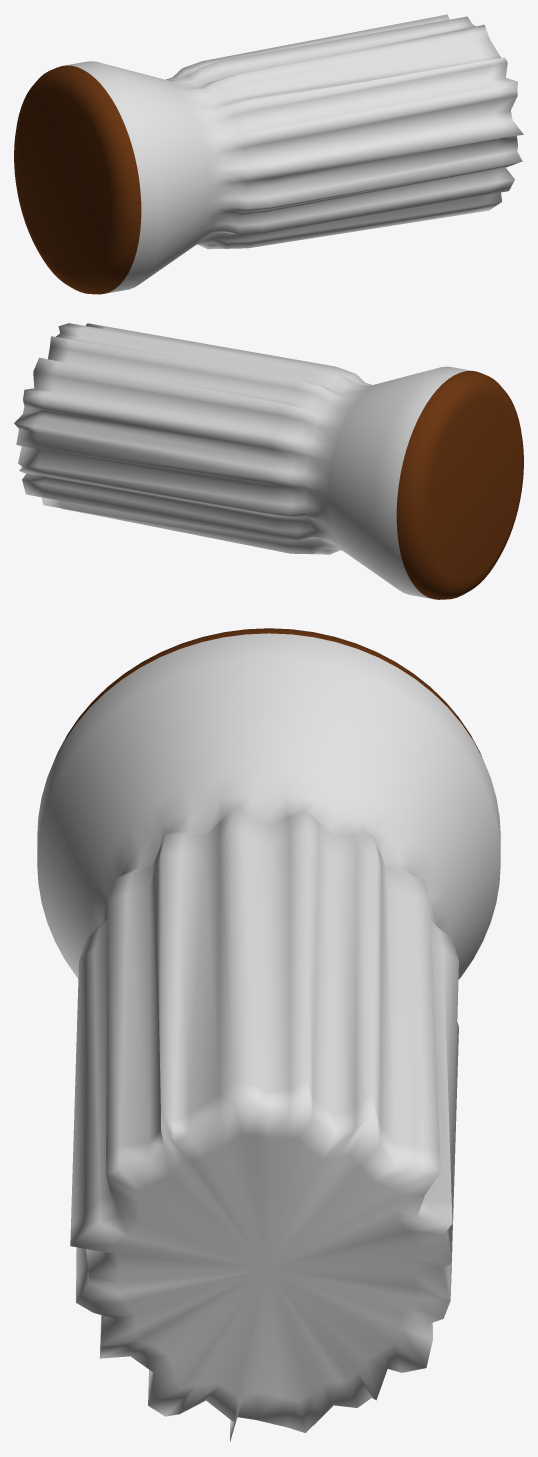
File: column_broken_1.fbx
3 views of the same model, one above another, from view 1: azimuth 30°, elevation 25°; view 2: azimuth 150°, elevation 25°; view 3: azimuth 270°, elevation 25° (orthographic). The views are drawn at different scales.
Visible parts, largest first — view 1: column_broken_2; view 2: column_broken_2; view 3: column_broken_2.
Part boxes in pixels (box(x1,y1,x2,y2)): column_broken_2: box(14, 14, 523, 294); column_broken_2: box(14, 323, 523, 599); column_broken_2: box(37, 628, 500, 1441).
Size of the model in its own units: 533 by 264 by 253.
